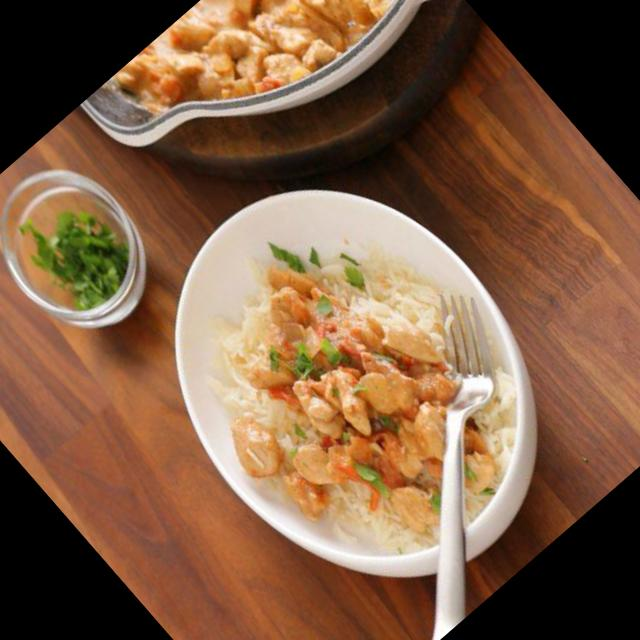chicken: (215, 258, 513, 568), (95, 0, 434, 189)
